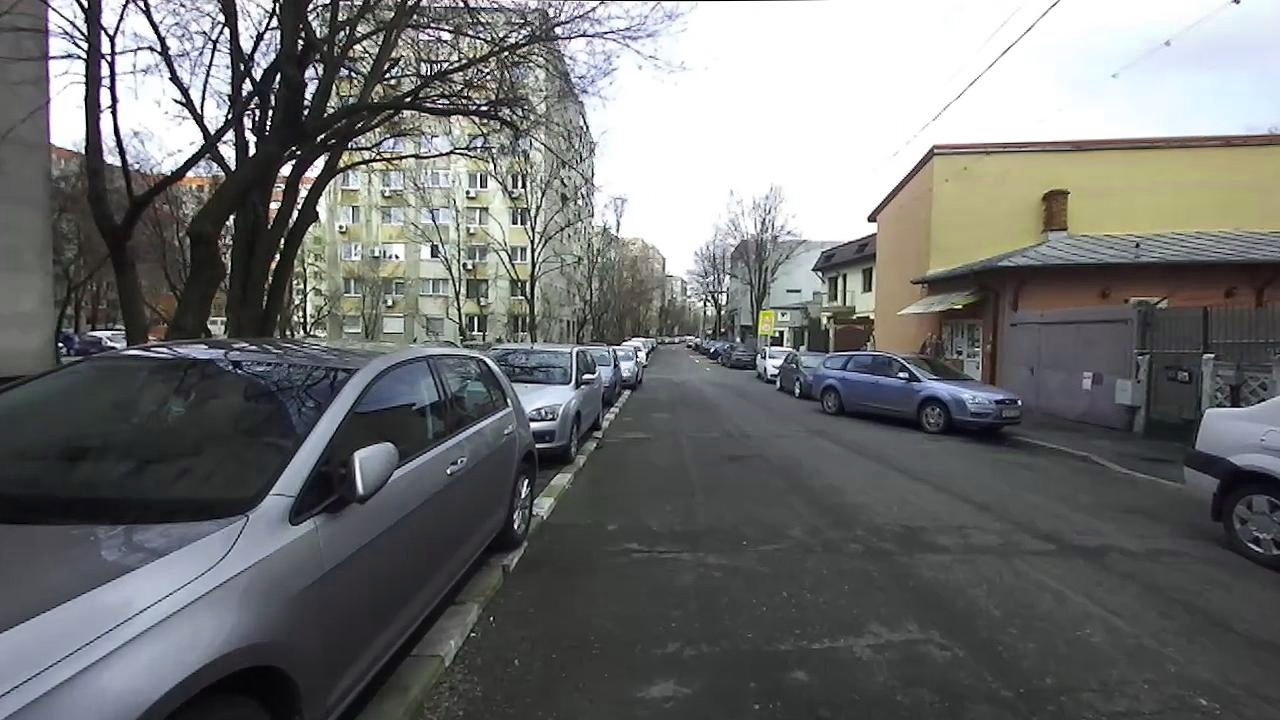pothole: (618, 540, 706, 564)
